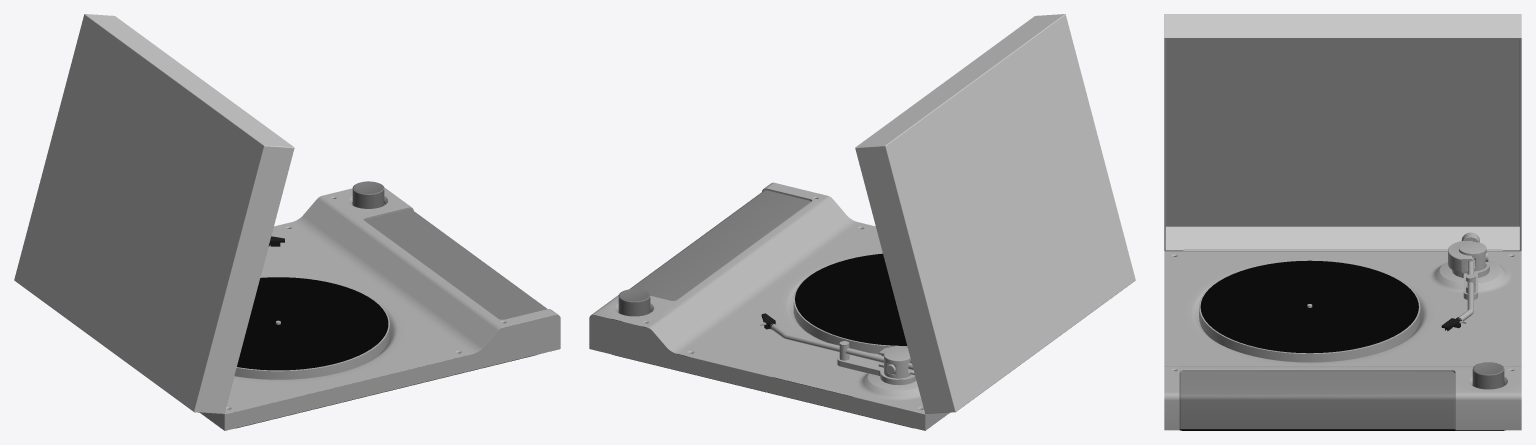
The model's file is RecordPlayer002_Export_007.fbx.
3 views of the same model, side by side, from view 1: azimuth 30°, elevation 25°; view 2: azimuth 150°, elevation 25°; view 3: azimuth 270°, elevation 25° (orthographic).
Visible parts, largest first — view 1: case.001, body.001, record.001, speaker.001, Cylinder.002; view 2: case.001, body.001, record.001, speaker.001, tonearm_rest.001, tonearm.001, Cylinder.002, antishake.001; view 3: case.001, body.001, speaker.001, record.001, antishake.001, Cylinder.002, foot.001, tonearm.001, tonearm_rest.001.
Boxes of the visible parts, x1,y1,x2,y2 form: case.001: [14, 14, 294, 414]; body.001: [200, 187, 560, 430]; record.001: [237, 277, 388, 370]; speaker.001: [364, 209, 547, 319]; Cylinder.002: [352, 181, 384, 208]; case.001: [855, 14, 1135, 413]; body.001: [589, 182, 949, 430]; record.001: [795, 253, 907, 345]; speaker.001: [629, 190, 810, 300]; tonearm_rest.001: [837, 341, 916, 385]; tonearm.001: [770, 323, 913, 374]; Cylinder.002: [618, 289, 650, 316]; antishake.001: [878, 346, 914, 378]; case.001: [1164, 14, 1521, 251]; body.001: [1164, 249, 1521, 430]; speaker.001: [1179, 371, 1455, 429]; record.001: [1200, 260, 1418, 353]; antishake.001: [1448, 241, 1486, 273]; Cylinder.002: [1472, 362, 1504, 389]; foot.001: [1179, 429, 1505, 430]; tonearm.001: [1458, 232, 1488, 321]; tonearm_rest.001: [1452, 262, 1489, 299].
Bounding box in the file's own units: 57.66 × 42.3 × 49.13.
Materials: 2 (1 with a texture image).
